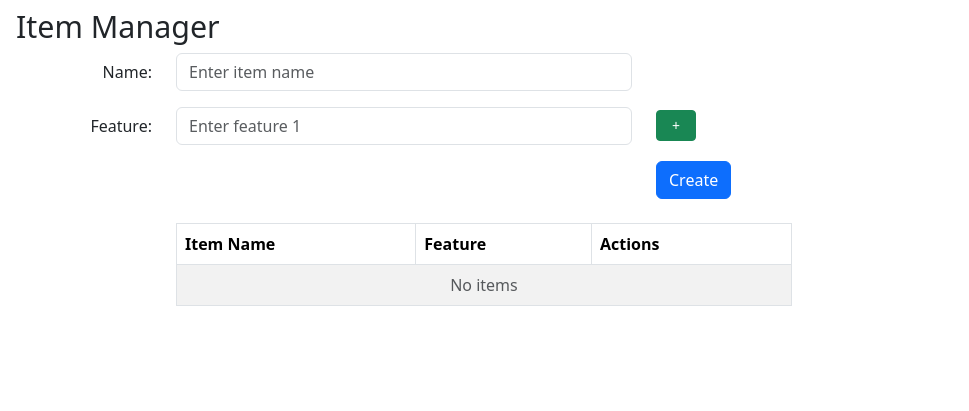
Scenario: ItemManager Component › adds a duplicated item
Step 1. Type "Toothpaste" into the field labelled "Name:" → {"x": 404, "y": 72}, box [176,52,632,90]
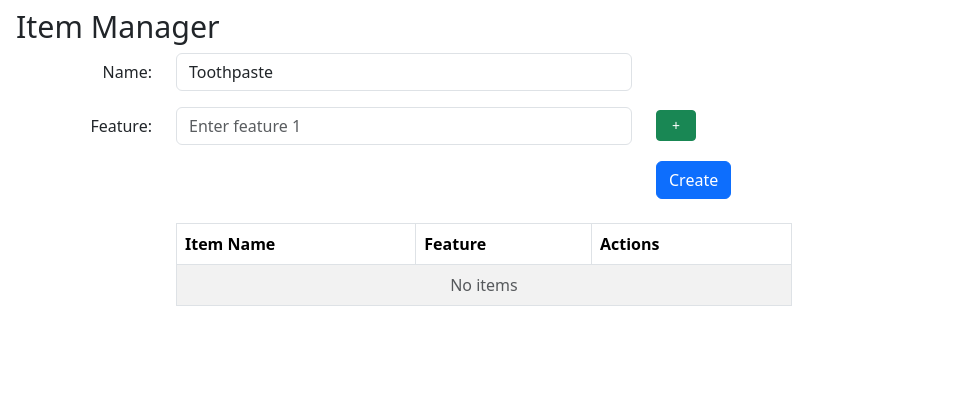
Step 2. Type "Taste" into the field labelled "Feature:" → {"x": 404, "y": 126}, box [176,106,632,144]
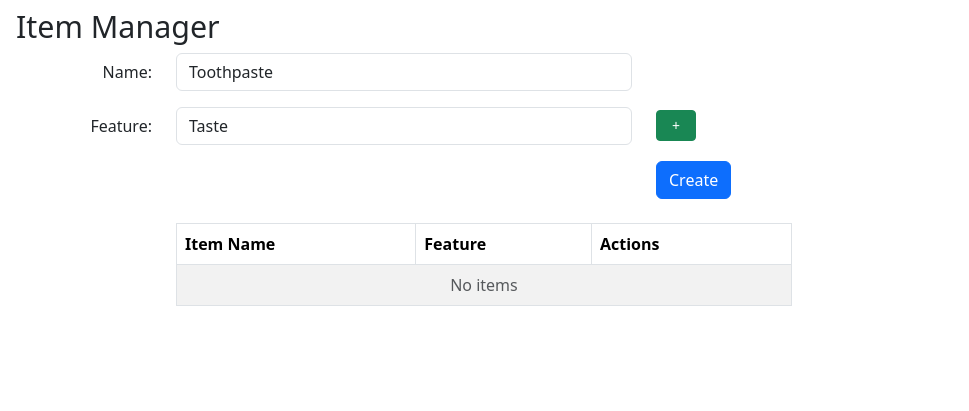
Step 3. Click the button "Create" → {"x": 694, "y": 180}, box [656,160,731,198]
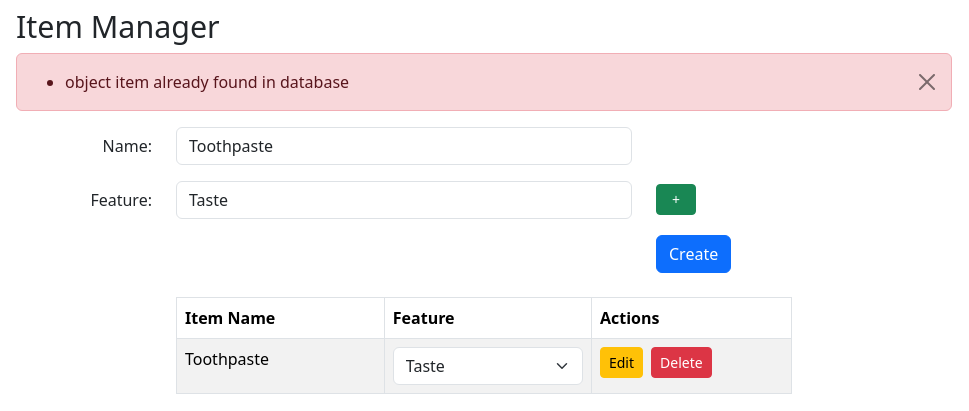
Now the message "object item already found in database" is shown, box [16,52,952,110]
